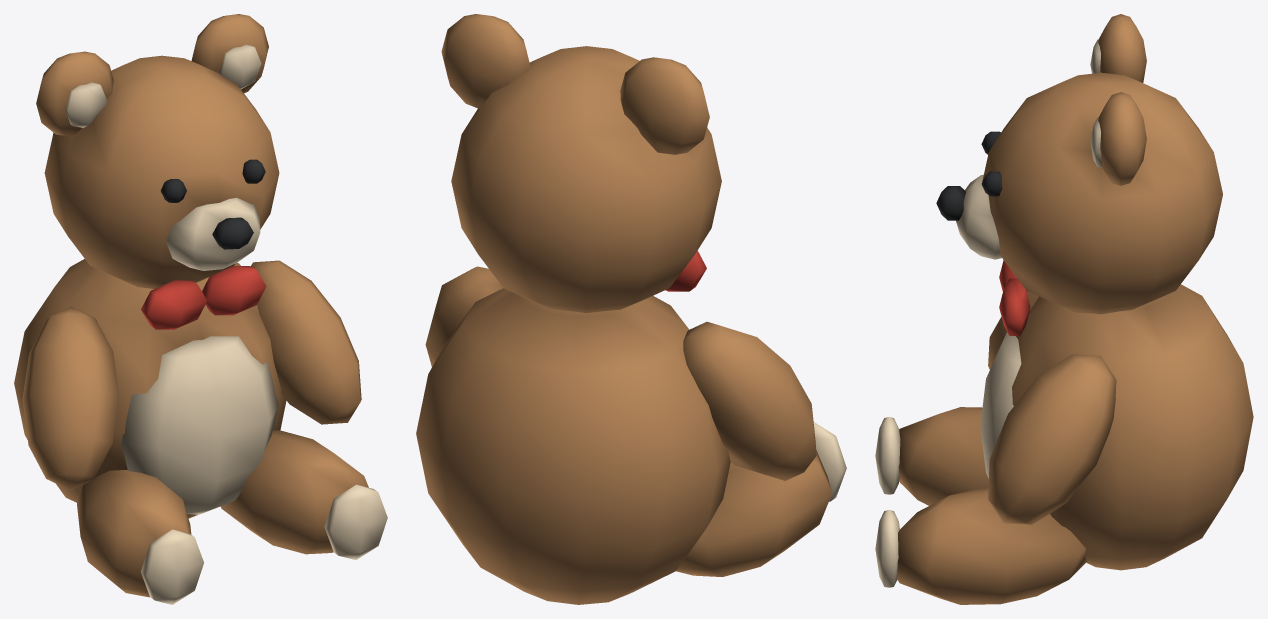
File: stuffedToy.glb
3 views of the same model, side by side, from view 1: azimuth 30°, elevation 25°; view 2: azimuth 150°, elevation 25°; view 3: azimuth 270°, elevation 25° (orthographic). The views are drawn at different scales.
Parts seen in each view (by area): view 1: stuffedToy; view 2: stuffedToy; view 3: stuffedToy.
Part boxes in pixels (box(x1,y1,x2,y2)): stuffedToy: box(14, 14, 387, 604); stuffedToy: box(416, 14, 846, 604); stuffedToy: box(875, 14, 1253, 604).
Bounding box in the file's own units: 0.1969 × 0.282 × 0.1925.
